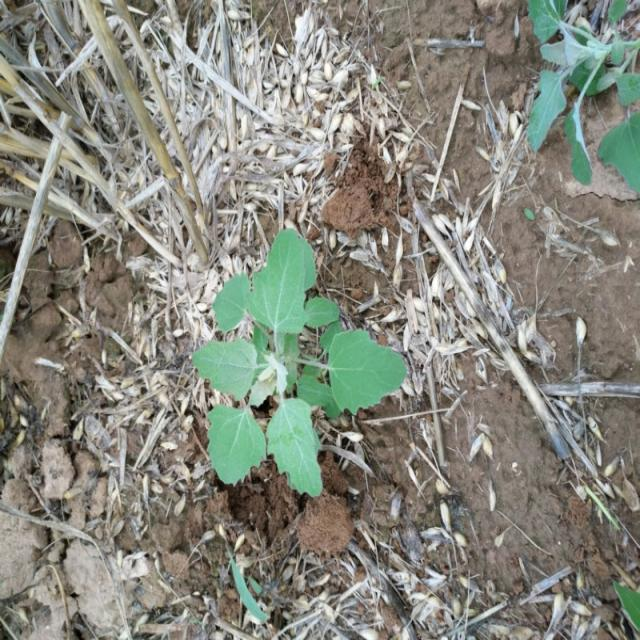goosefoots: (152, 216, 422, 477)
